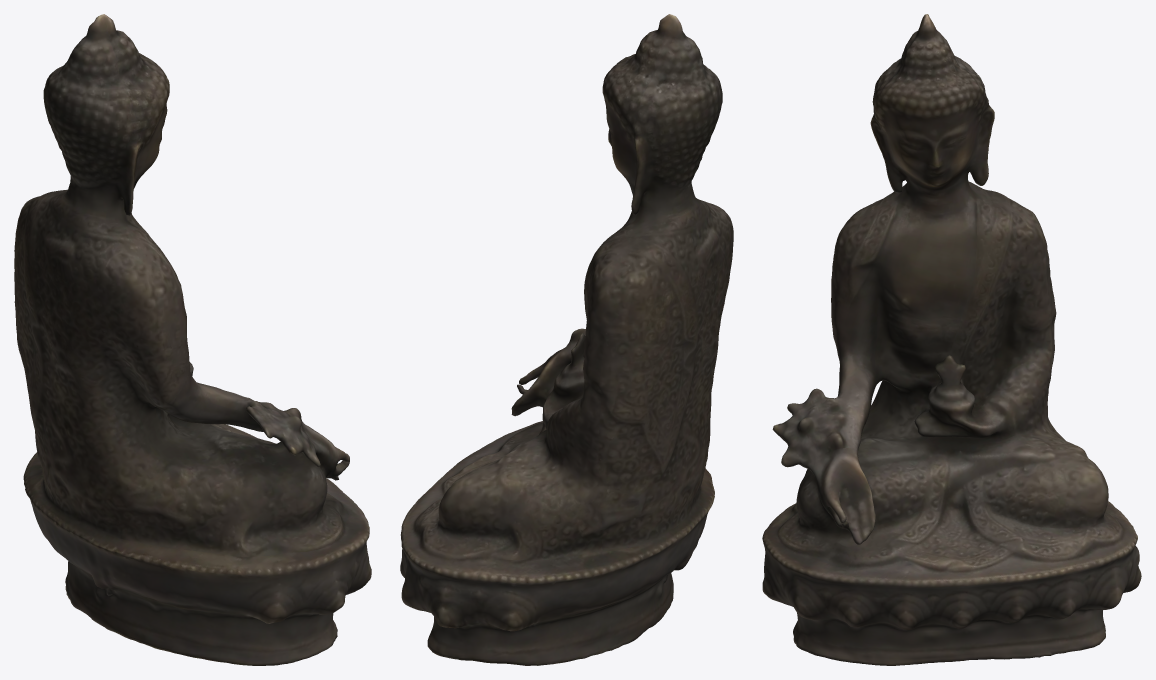
File: medicine-buddha.glb
3 views of the same model, side by side, from view 1: azimuth 30°, elevation 25°; view 2: azimuth 150°, elevation 25°; view 3: azimuth 270°, elevation 25° (orthographic). The views are drawn at different scales.
Visible parts, largest first — view 1: Object_2; view 2: Object_2; view 3: Object_2.
Boxes of the visible parts, box(x1,y1,x2,y2) form: Object_2: box(14, 14, 371, 665); Object_2: box(400, 14, 733, 665); Object_2: box(762, 14, 1141, 665).
Size of the model in its own units: 0.8236 by 1.81 by 1.1.
1 material, 1 textured.
